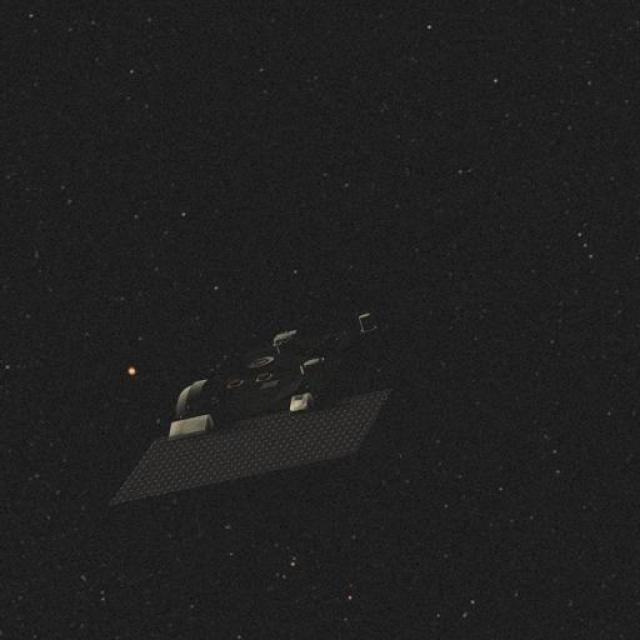proba_3_csc: (106, 268, 543, 507)
